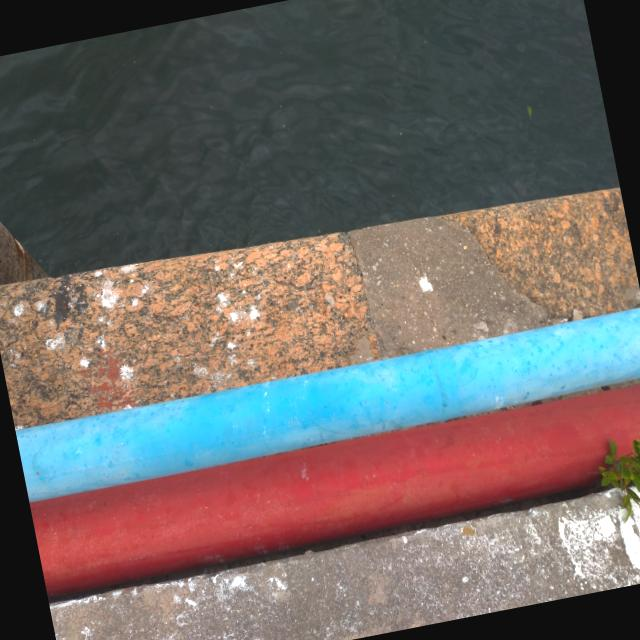gas: (29, 379, 640, 599), (15, 306, 640, 501)
